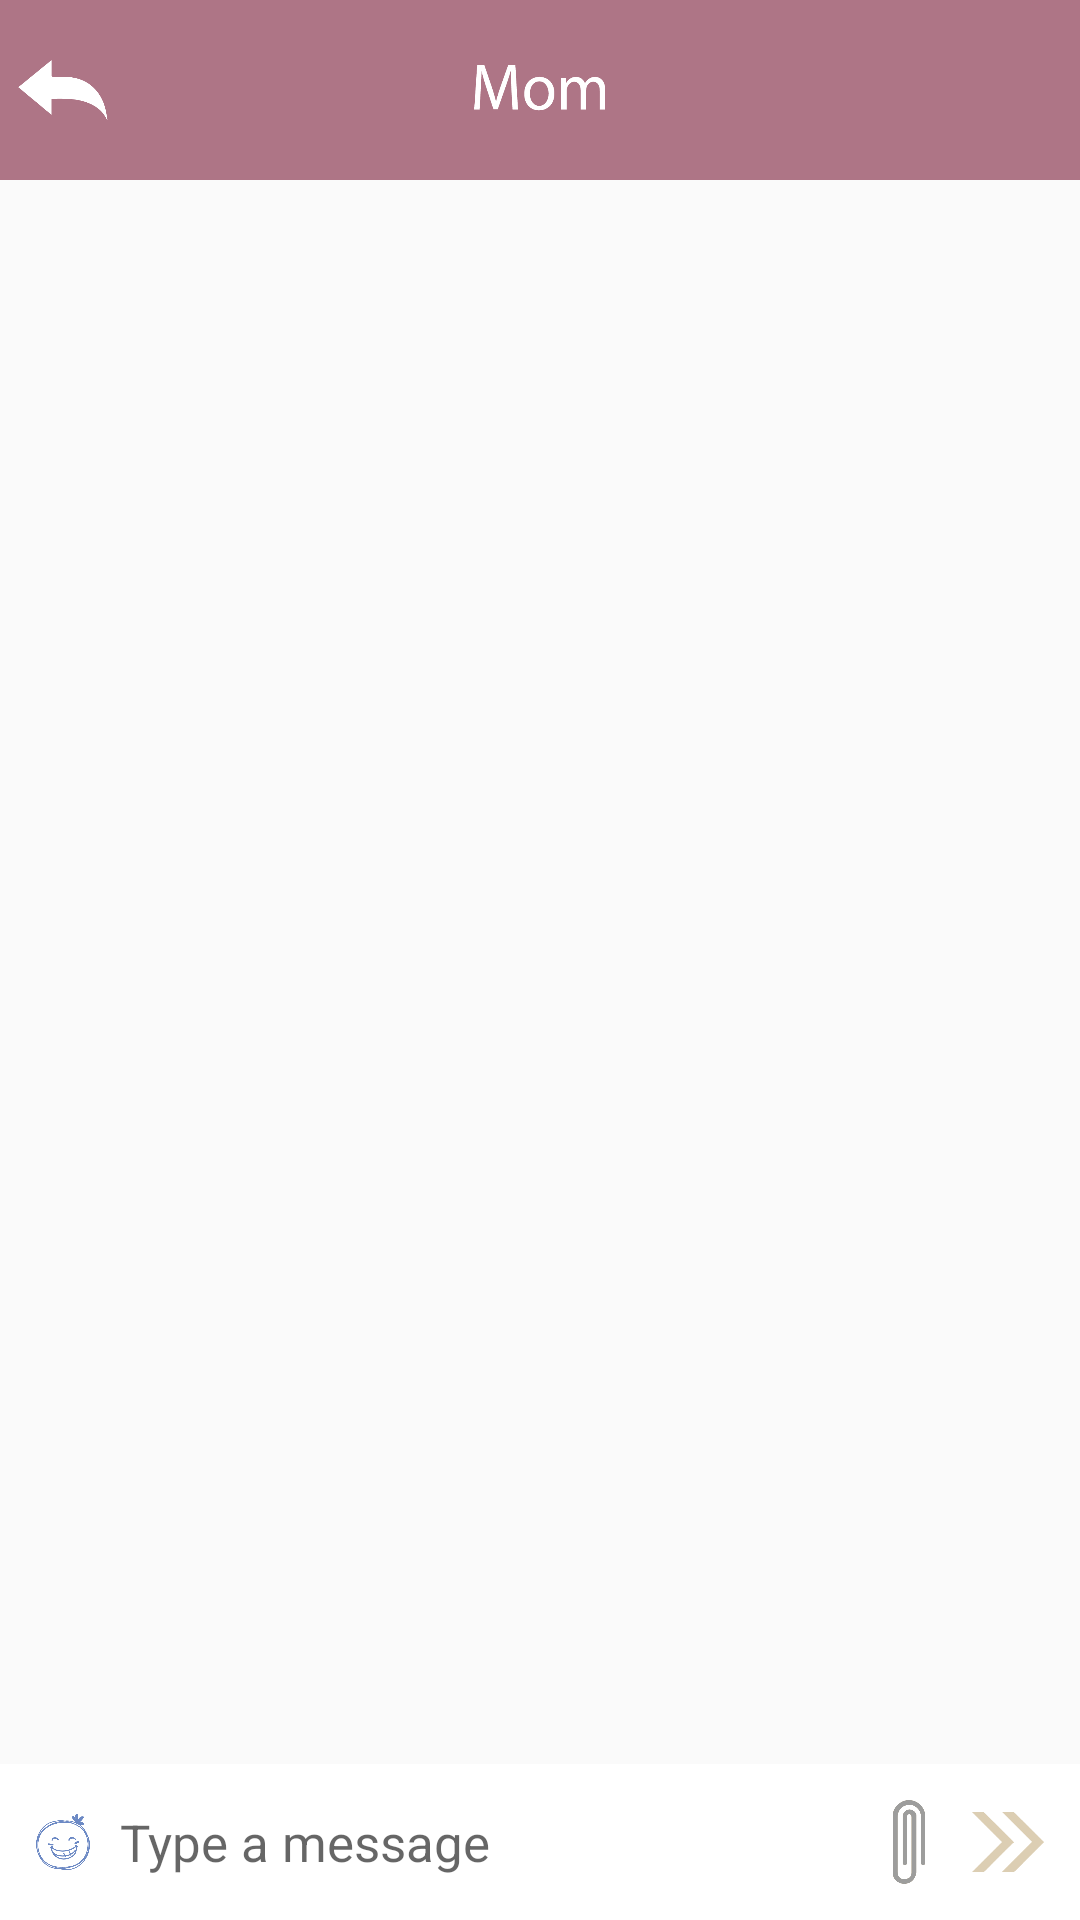

Locate icon controls on the screen. Image size 1080px×1920px, boxes as (x1, y1, x2, y2).
attachment: (893, 1800, 925, 1884)
backwhite: (18, 60, 108, 120)
sendbutton faded: (972, 1812, 1044, 1872)
smileyface: (36, 1814, 90, 1870)
